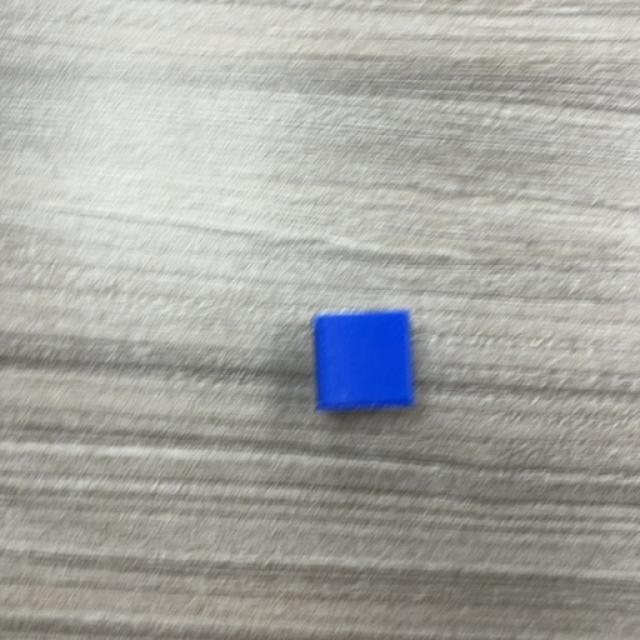Azul: (314, 310, 416, 414)
